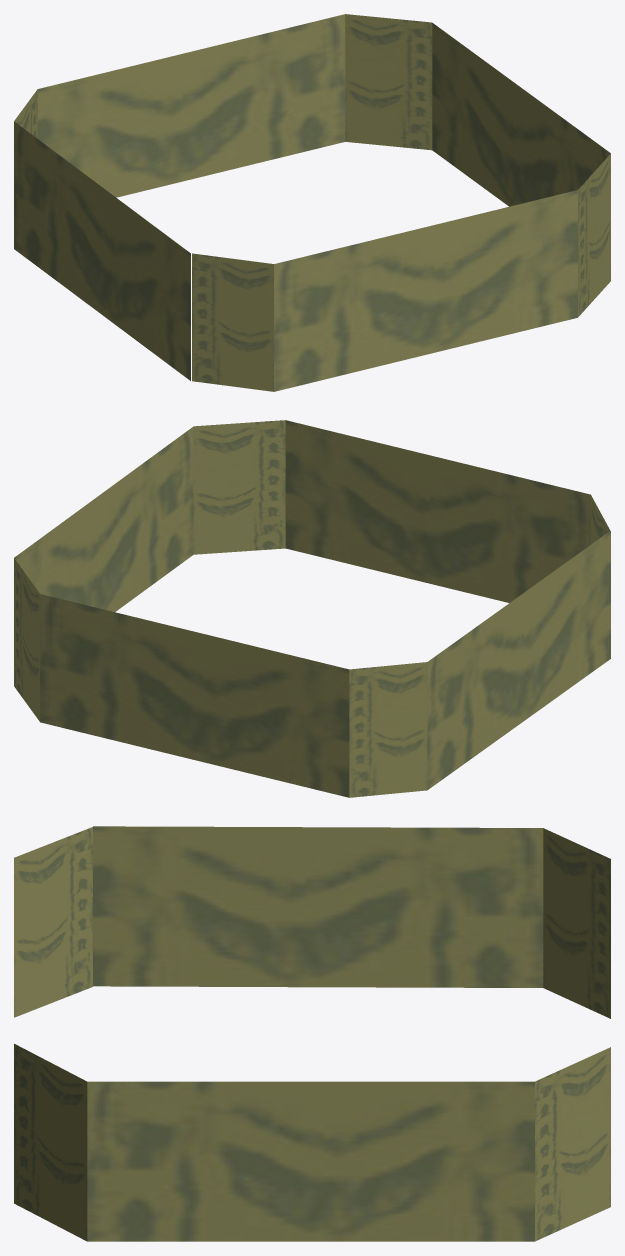
3 renders of one model, top to bottom at view 1: azimuth 30°, elevation 25°; view 2: azimuth 150°, elevation 25°; view 3: azimuth 270°, elevation 25°, orthographic. The views are drawn at different scales.
Parts seen in each view (by area): view 1: Room 02 Bezier.001; view 2: Room 02 Bezier.001; view 3: Room 02 Bezier.001.
Part boxes in pixels (x1=…): Room 02 Bezier.001: x1=14, y1=14, x2=610, y2=391; Room 02 Bezier.001: x1=14, y1=420, x2=610, y2=797; Room 02 Bezier.001: x1=14, y1=826, x2=610, y2=1241.
Size of the model in its own units: 342 by 100 by 338.
